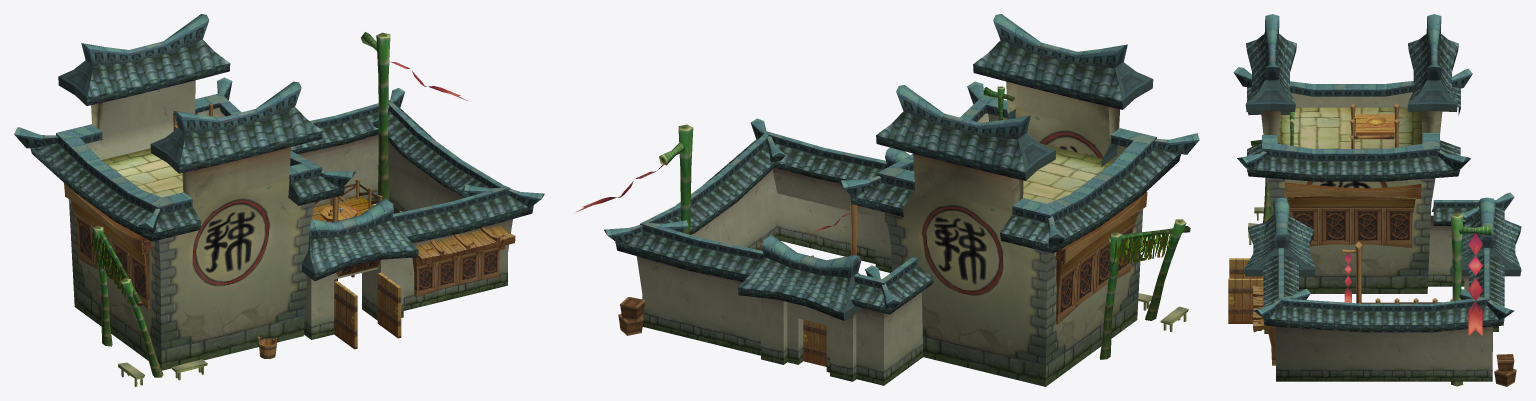
File: taoyuanzhen_jiaoziguan.FBX
The picture shows the model from 3 angles, left to right: view 1: azimuth 30°, elevation 25°; view 2: azimuth 150°, elevation 25°; view 3: azimuth 270°, elevation 25°; orthographic projection. The views are drawn at different scales.
Visible parts, largest first — view 1: taoyuanzhen_jiaoziguan; view 2: taoyuanzhen_jiaoziguan; view 3: taoyuanzhen_jiaoziguan.
Part boxes in pixels (x1=…): taoyuanzhen_jiaoziguan: x1=14, y1=14, x2=544, y2=386; taoyuanzhen_jiaoziguan: x1=576, y1=14, x2=1199, y2=386; taoyuanzhen_jiaoziguan: x1=1228, y1=14, x2=1521, y2=386.
Bounding box in the file's own units: 2267 × 1266 × 1424.
